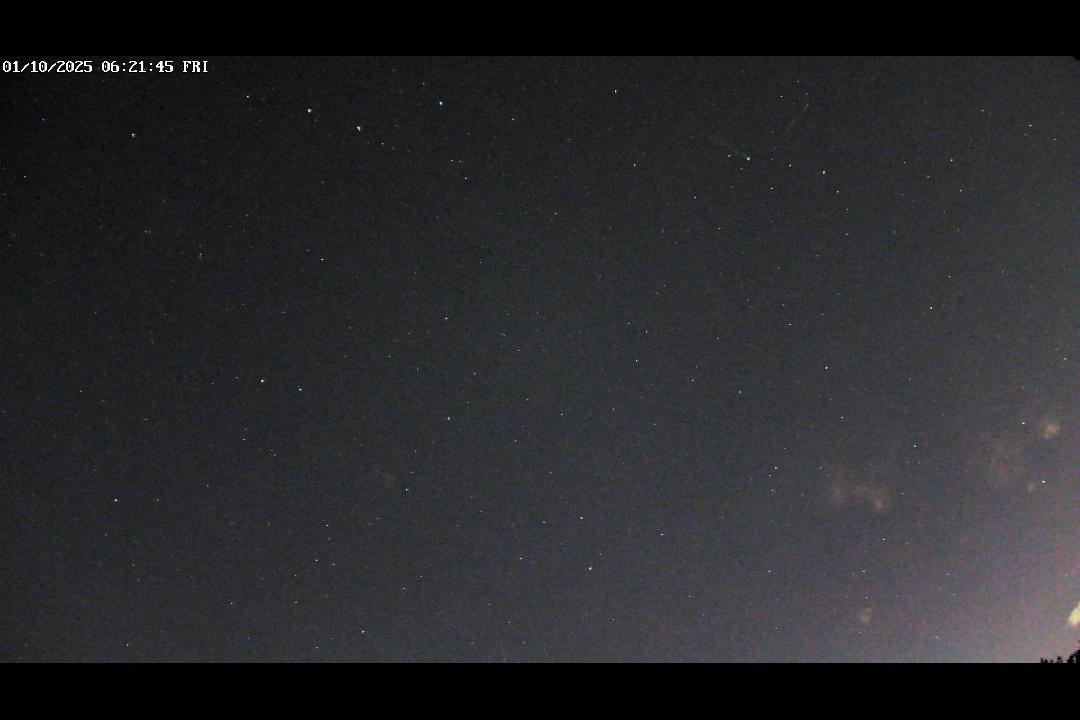Plane: (713, 140, 756, 166), (781, 101, 813, 134)
